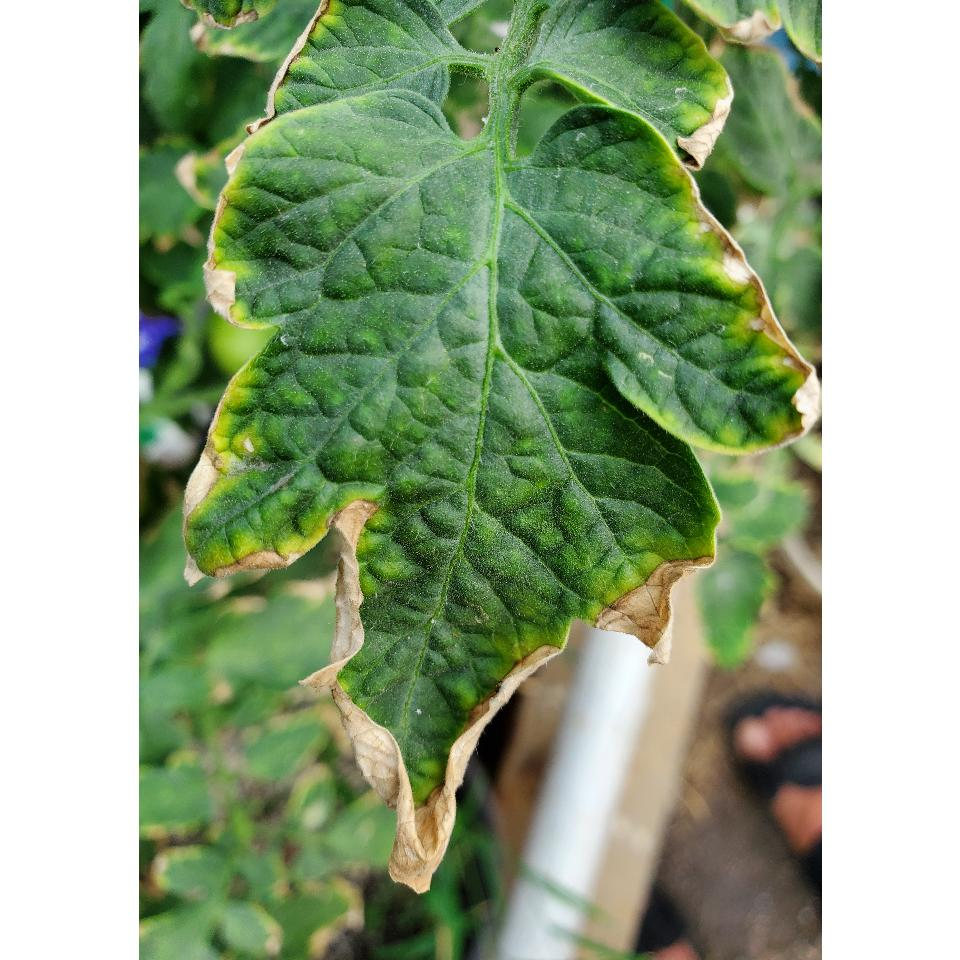tomato_bacterial_blight: (195, 73, 821, 898)
